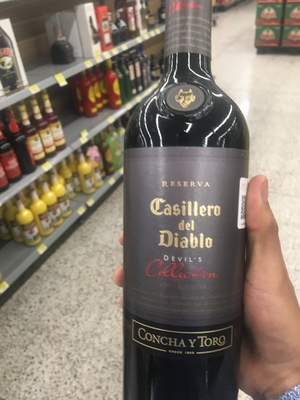casillero del diablo devils collection rojo: (117, 7, 251, 400)
